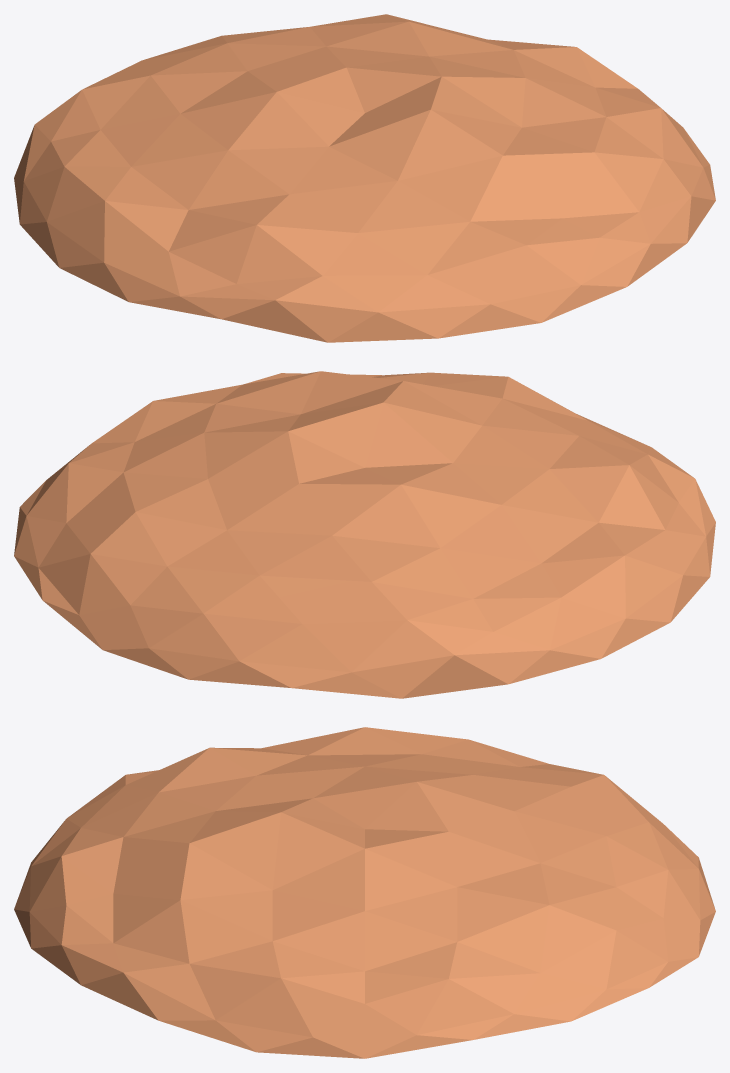
The model's file is füllung_topf.fbx.
The picture shows the model from 3 angles, top to bottom: view 1: azimuth 30°, elevation 25°; view 2: azimuth 150°, elevation 25°; view 3: azimuth 270°, elevation 25°; orthographic projection.
Parts seen in each view (by area): view 1: Icosphere; view 2: Icosphere; view 3: Icosphere.
Boxes of the visible parts, x1,y1,x2,y2 form: Icosphere: (14,14,715,342); Icosphere: (14,371,715,698); Icosphere: (14,727,715,1058).
Size of the model in its own units: 66.86 by 11.64 by 66.86.
